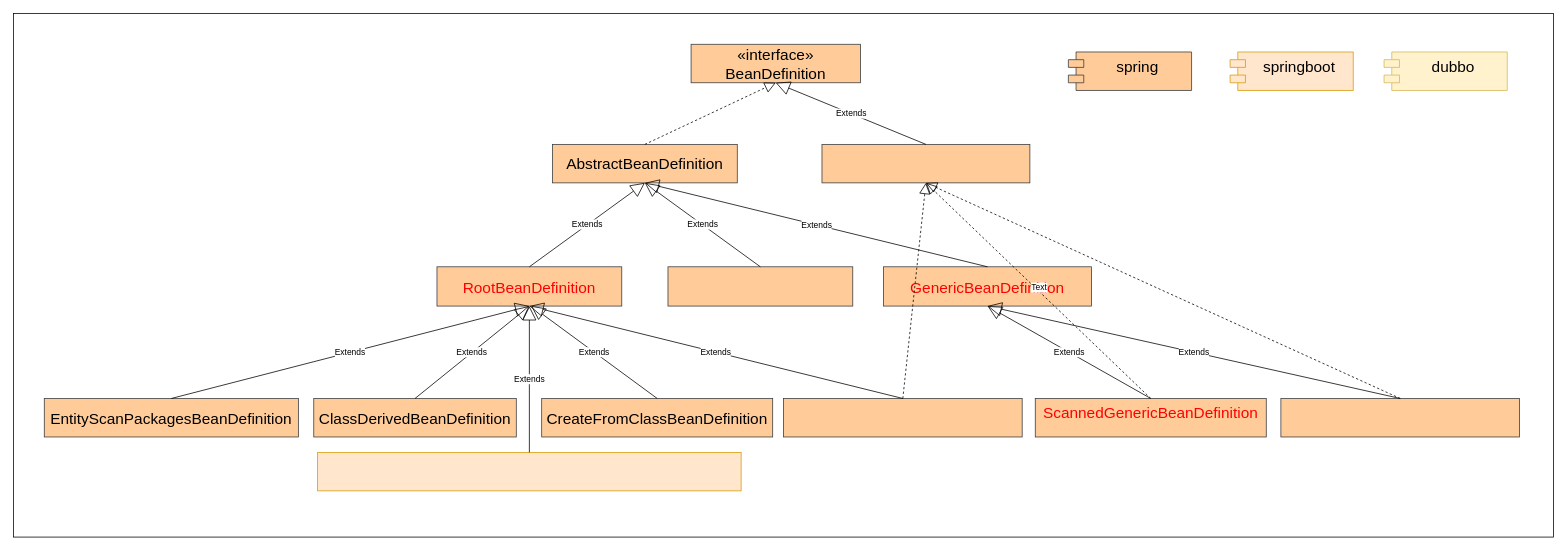
Image size: 1567x551. Some labels were removed from this diagram. The shapes that lost their labels are listed below. From the top down, each one's centre as x and y in pixels, then its label:
At [925,163]: "«interface» AnnotatedBeanDefinition".
At [760,286]: "ChildBeanDefinition".
At [902,417]: "ConfigurationClassBeanDefinition".
At [1400,417]: "AnnotatedGenericBeanDefinition".
At [529,471]: "ServletComponentRegisteringPostProcessorBeanDefinition".
